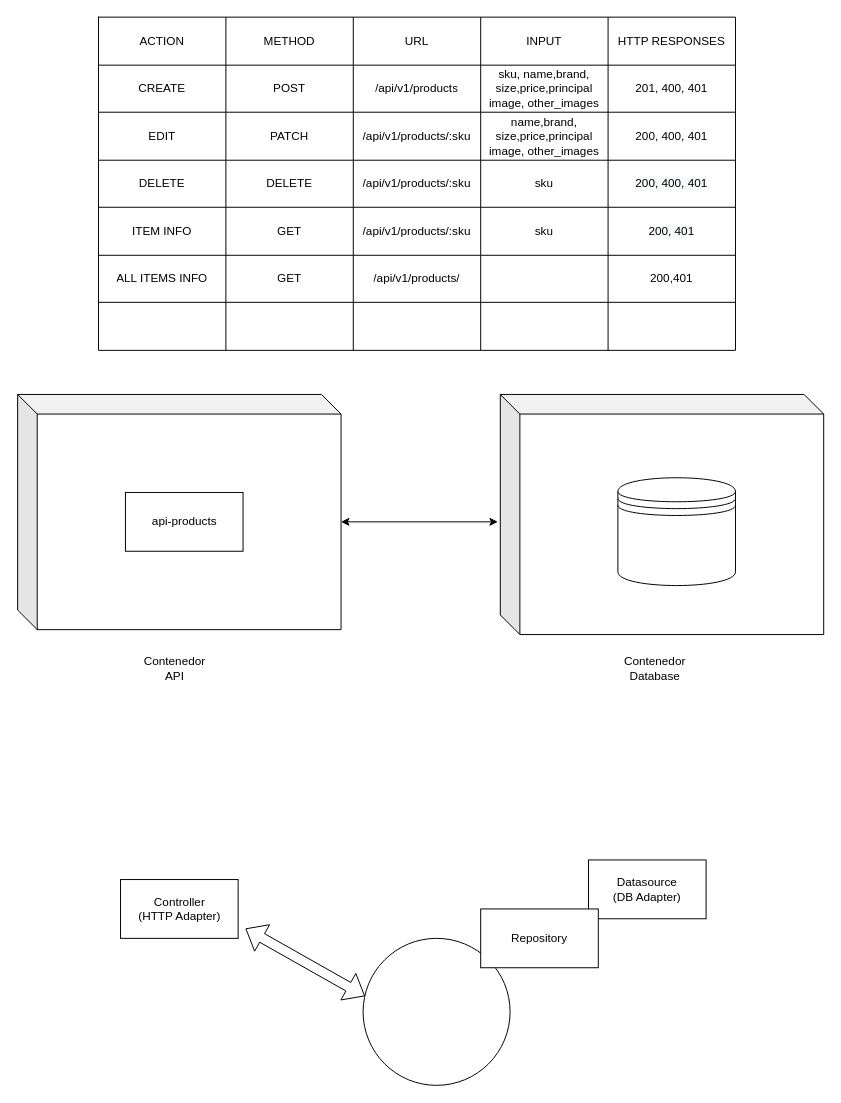
The diagram is 841 pixels wide and 1103 high, and some of its shapes have lost their labels. Here are the shapes that lost their labels. From the top down, the box of each, then its label:
(617, 477, 735, 586): MongoDB Collections Products
(362, 937, 510, 1085): Service (Business Logic)
